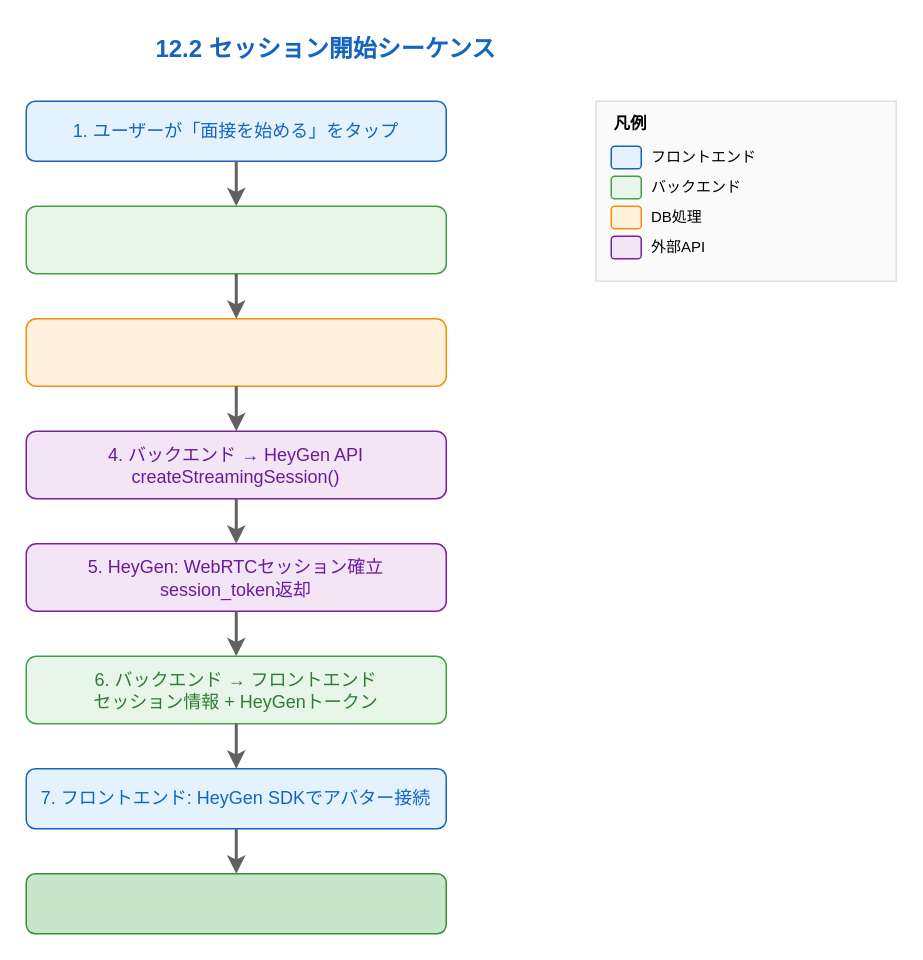
Some shapes in this 923 by 960 pixel diagram are drawn without their labels. The box of each missing label's shape, as (x1, y1, x2, y2) in pixels:
2. フロントエンド → バックエンド POST /api/v1/sessions: (25, 205, 446, 274)
3. バックエンド: 質問バンクから 業界×JLPTレベルで質問選択、セッション作成: (25, 317, 446, 386)
8. アバター接続完了 → 面接開始: (25, 872, 446, 934)
